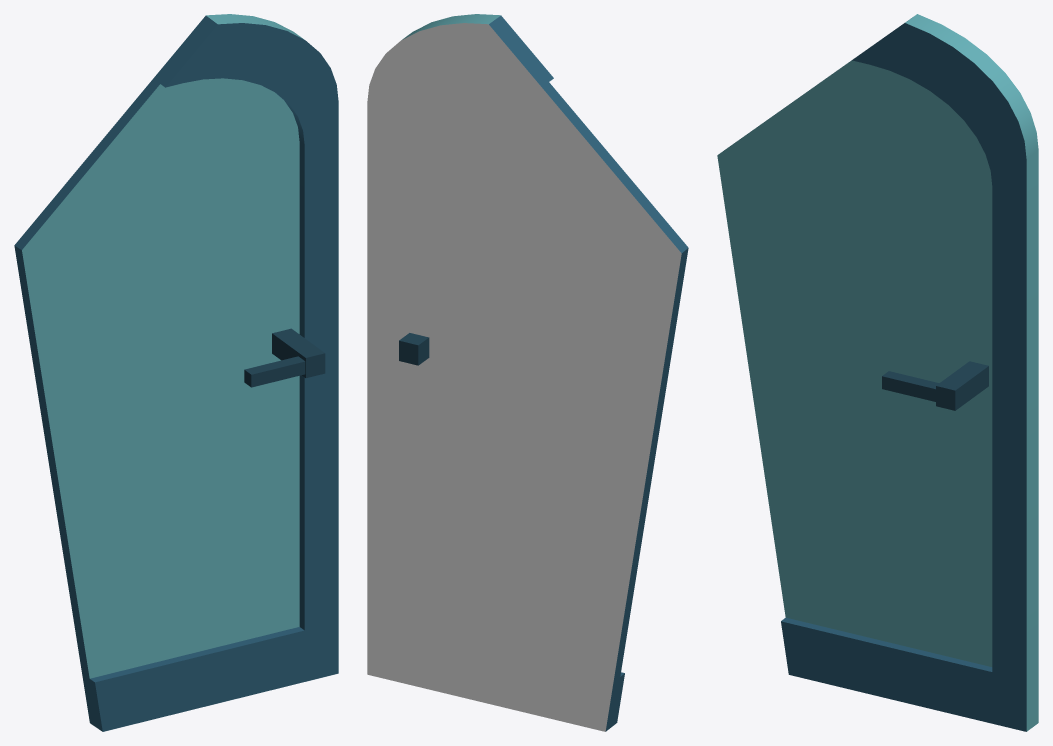
Rendered from door3.fbx.
The picture shows the model from 3 angles, left to right: view 1: azimuth 30°, elevation 25°; view 2: azimuth 150°, elevation 25°; view 3: azimuth 330°, elevation 25°; orthographic projection.
Visible parts, largest first — view 1: 破碎（Voronoi）_fracturepart; view 2: 破碎（Voronoi）_fracturepart; view 3: 破碎（Voronoi）_fracturepart.
Boxes of the visible parts, left/top/right/bottom form: 破碎（Voronoi）_fracturepart: left=14, top=14, right=338, bottom=731; 破碎（Voronoi）_fracturepart: left=367, top=14, right=688, bottom=731; 破碎（Voronoi）_fracturepart: left=717, top=14, right=1038, bottom=731.
Bounding box in the file's own units: 121 × 251 × 34.57.
